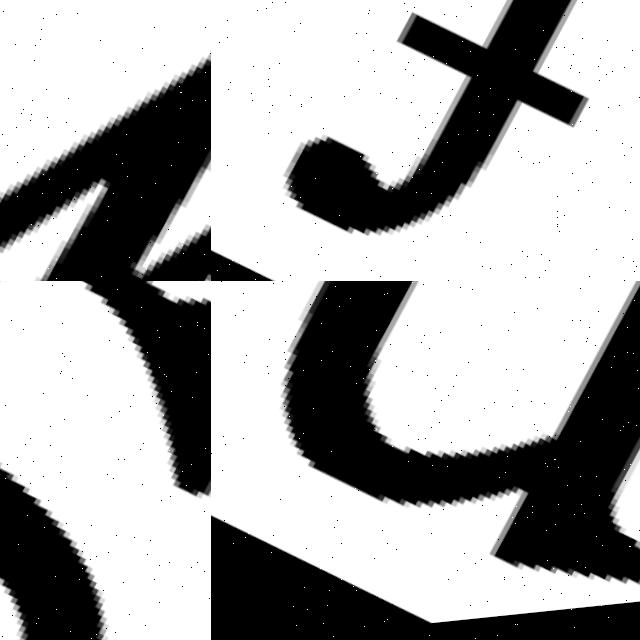F: (248, 0, 640, 281)
N: (211, 281, 640, 640)
S: (0, 281, 211, 640)
W: (0, 0, 211, 281)
